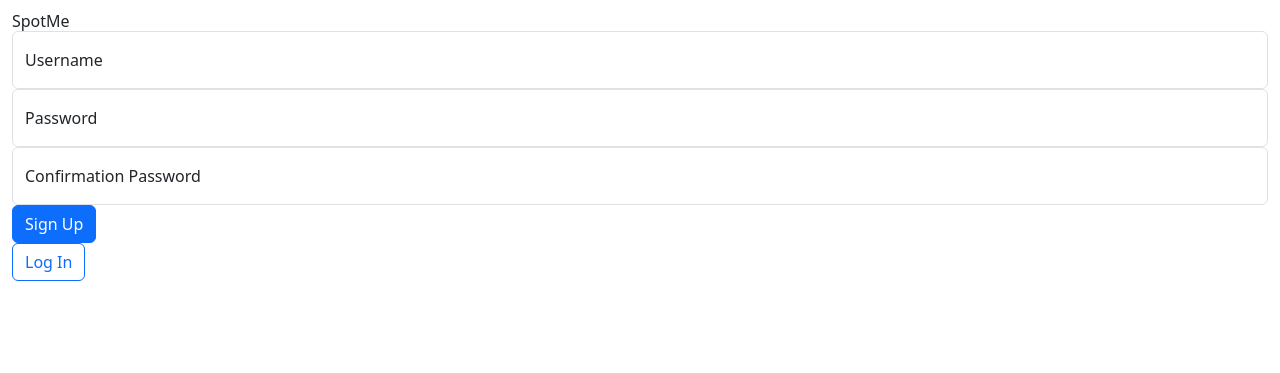
Test case: SignUpPage › should display an error message if the input is empty.
This screenshot has width=1280, height=373.
What coordinates should you click on to do the following:
click the button with test id "form-submit-button"
I would click on:
 (54, 224)
Its box is [12,205,96,243].
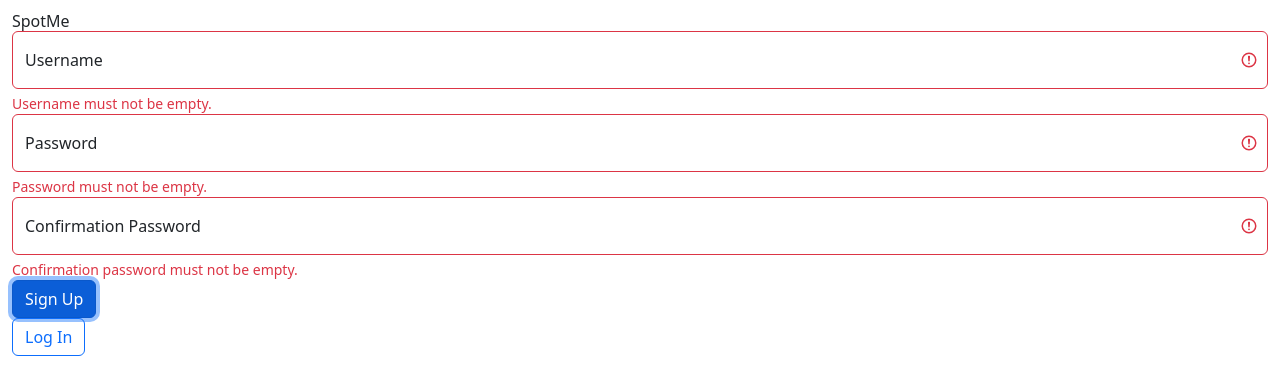
Expected: the list item "Username must not be empty." is shown, [12,94,212,113]
Expected: the list item "Password must not be empty." is shown, [12,177,207,196]
Expected: the list item "Confirmation password must not be empty." is shown, [12,260,298,279]
